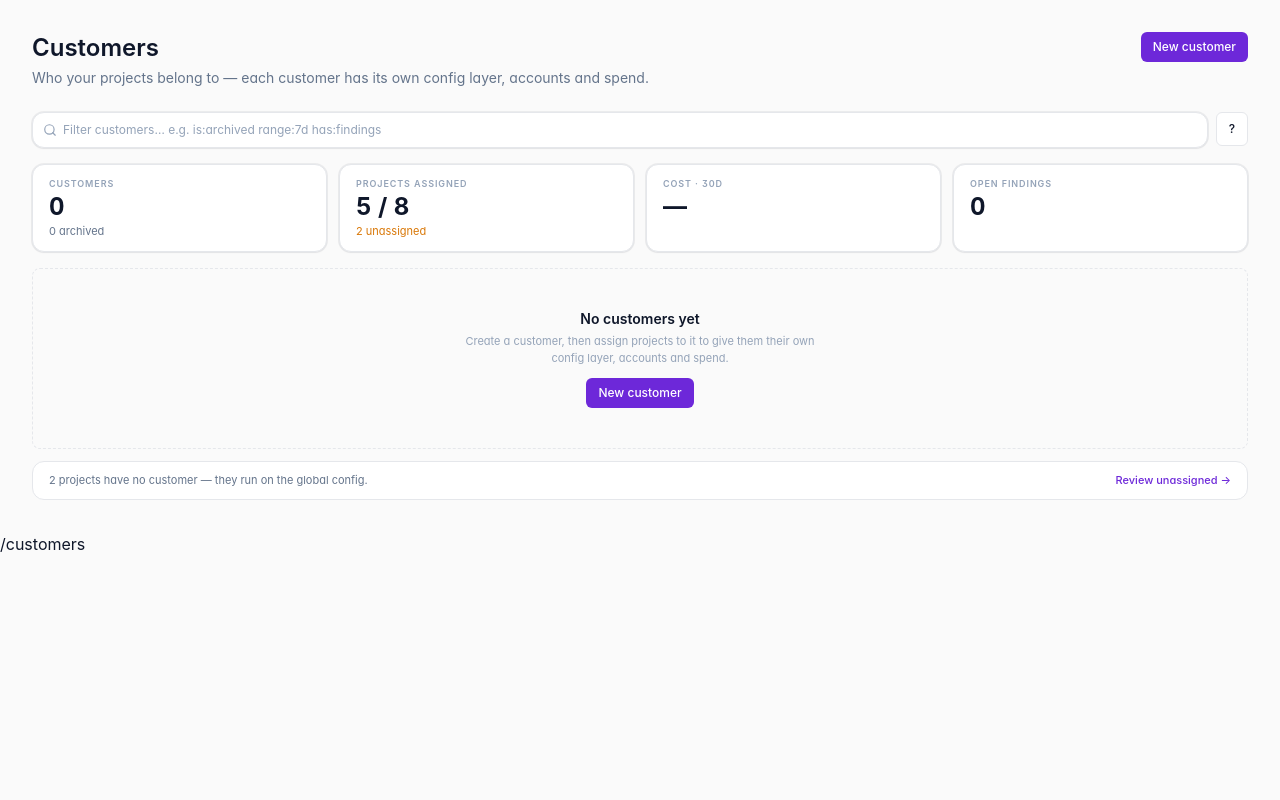
Test: Customers page › empty state offers New customer, which opens the dialog
Expected: the text "No customers yet" is shown, [580,310,700,327]
Step 1. Click the button "New customer" below "No customers yet" → point(640, 393), box [586,378,694,408]
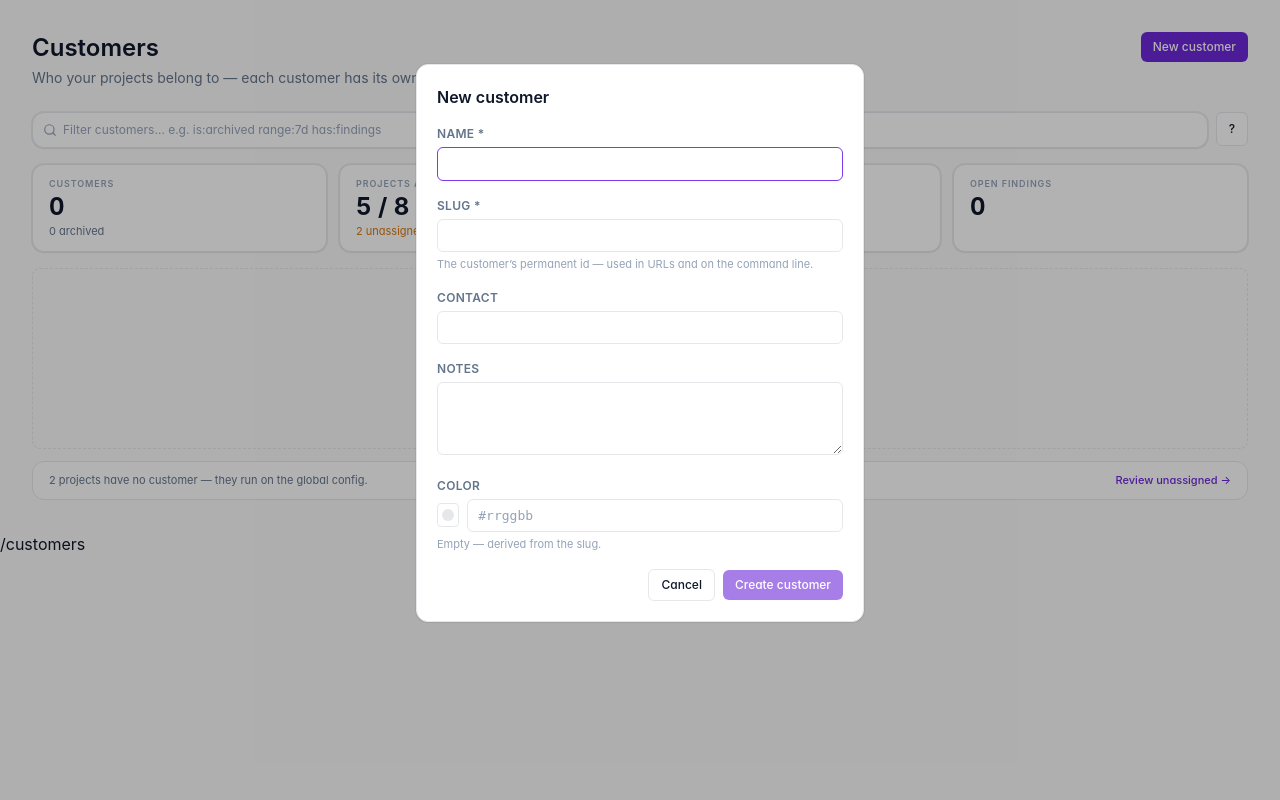
Expected: the dialog is shown, [416,64,864,622]
